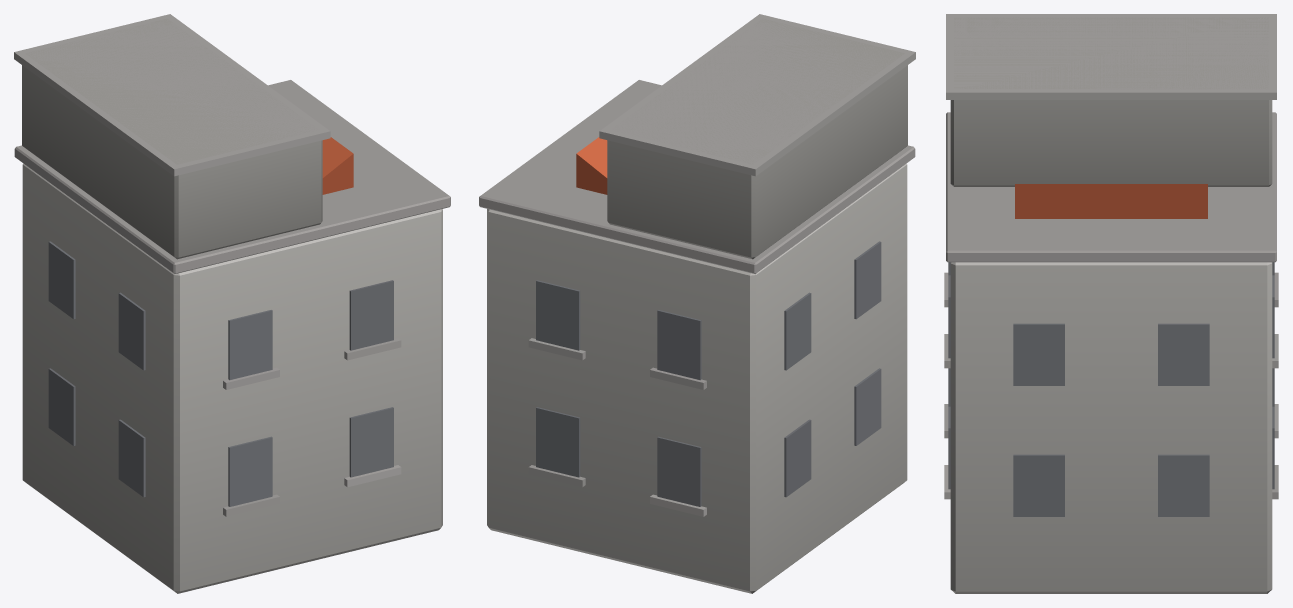
The picture shows the model from 3 angles, left to right: view 1: azimuth 30°, elevation 25°; view 2: azimuth 150°, elevation 25°; view 3: azimuth 270°, elevation 25°; orthographic projection. The views are drawn at different scales.
Visible parts, largest first — view 1: house_b_plaster, house_b_stone, house_b_glass, house_b_roof; view 2: house_b_plaster, house_b_stone, house_b_glass, house_b_roof; view 3: house_b_plaster, house_b_stone, house_b_glass, house_b_roof.
Part boxes in pixels (<box>): house_b_plaster: <box>22,18,442,593</box>; house_b_stone: <box>14,14,450,516</box>; house_b_glass: <box>48,241,393,506</box>; house_b_roof: <box>322,137,353,194</box>; house_b_plaster: <box>487,18,907,593</box>; house_b_stone: <box>479,14,915,516</box>; house_b_glass: <box>536,241,881,506</box>; house_b_roof: <box>576,137,607,194</box>; house_b_plaster: <box>950,17,1272,593</box>; house_b_stone: <box>944,14,1278,499</box>; house_b_glass: <box>948,262,1274,516</box>; house_b_roof: <box>1015,184,1207,218</box>.
Bounding box in the file's own units: 2.06 × 3.05 × 2.08.
